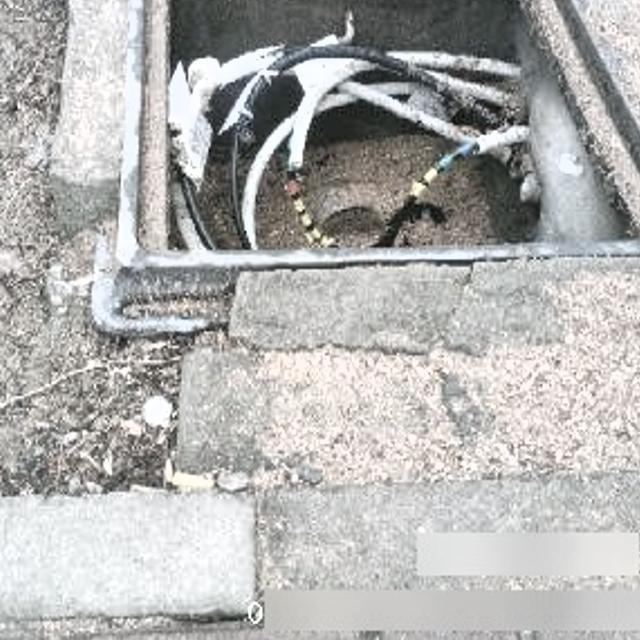lose: (119, 0, 640, 288)
